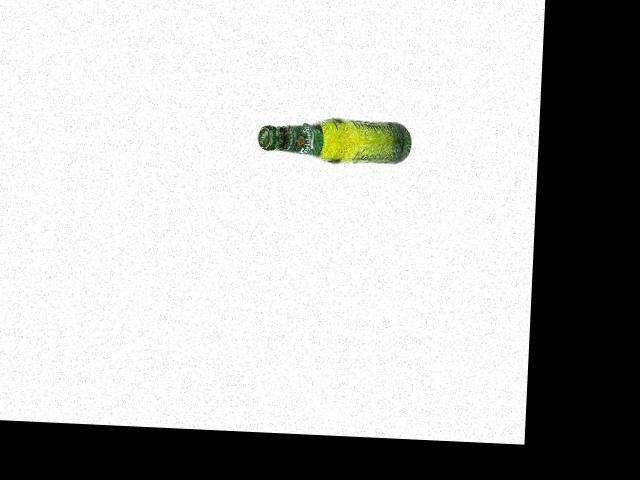beer: (257, 114, 412, 165)
